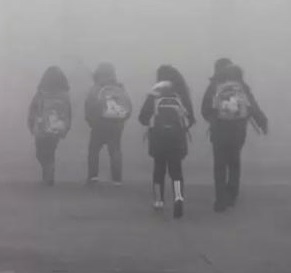person: (198, 55, 270, 214), (137, 62, 201, 221), (81, 62, 134, 190), (26, 64, 74, 188)
